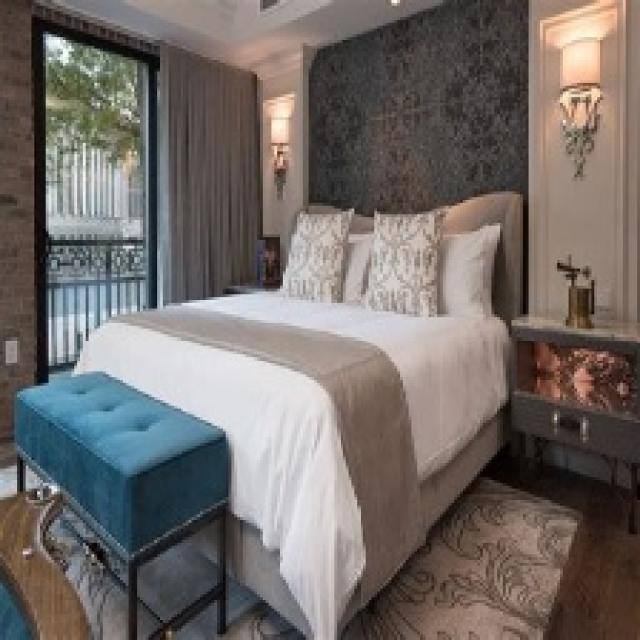Bed: (68, 189, 523, 637)
